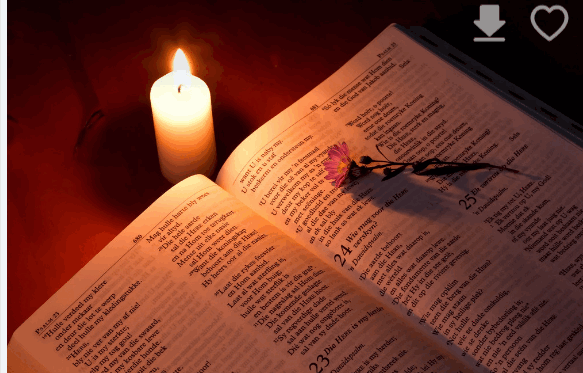Fire: (160, 43, 203, 90)
